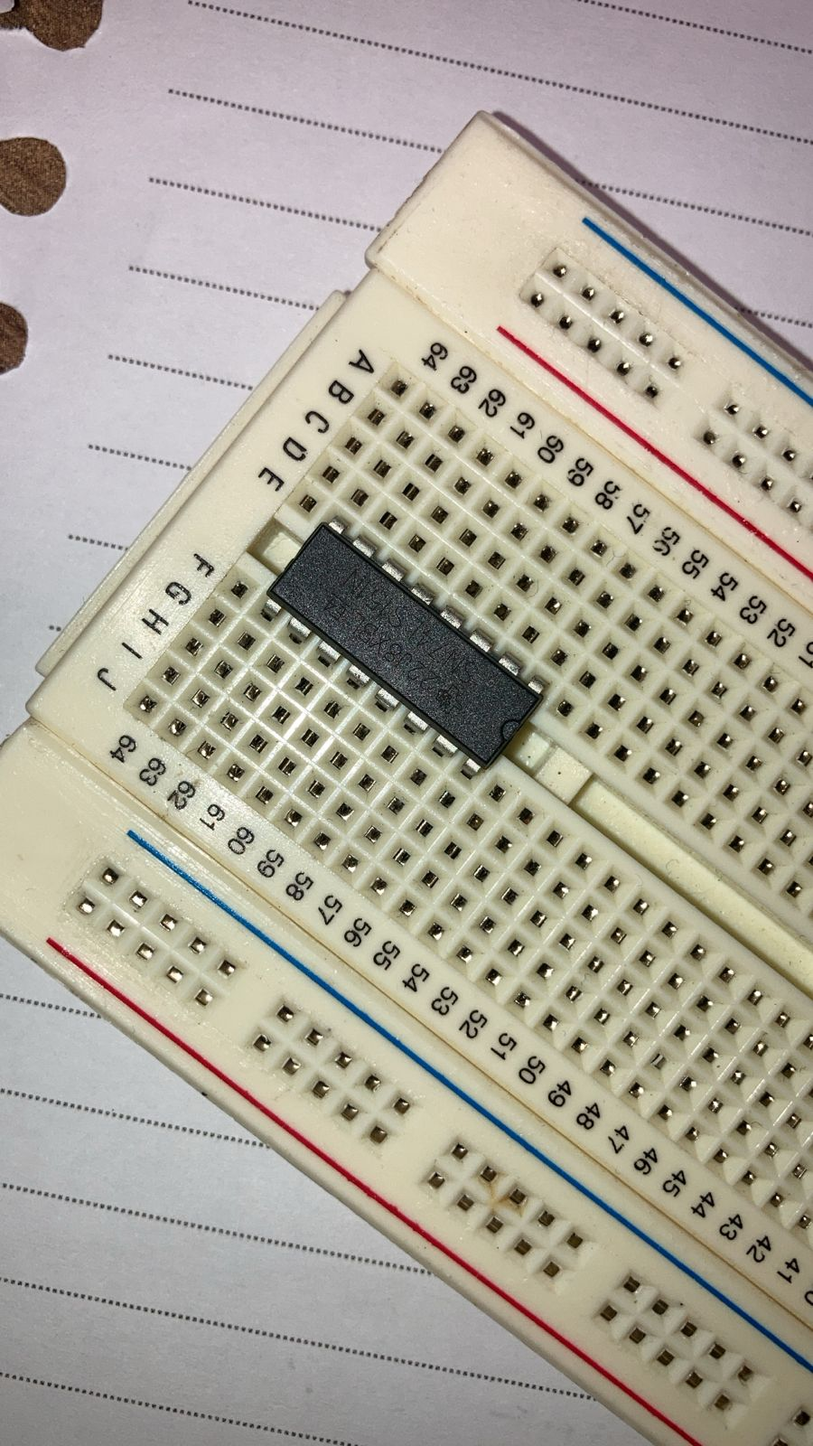IC: (251, 505, 561, 789)
notch: (498, 716, 526, 745)
